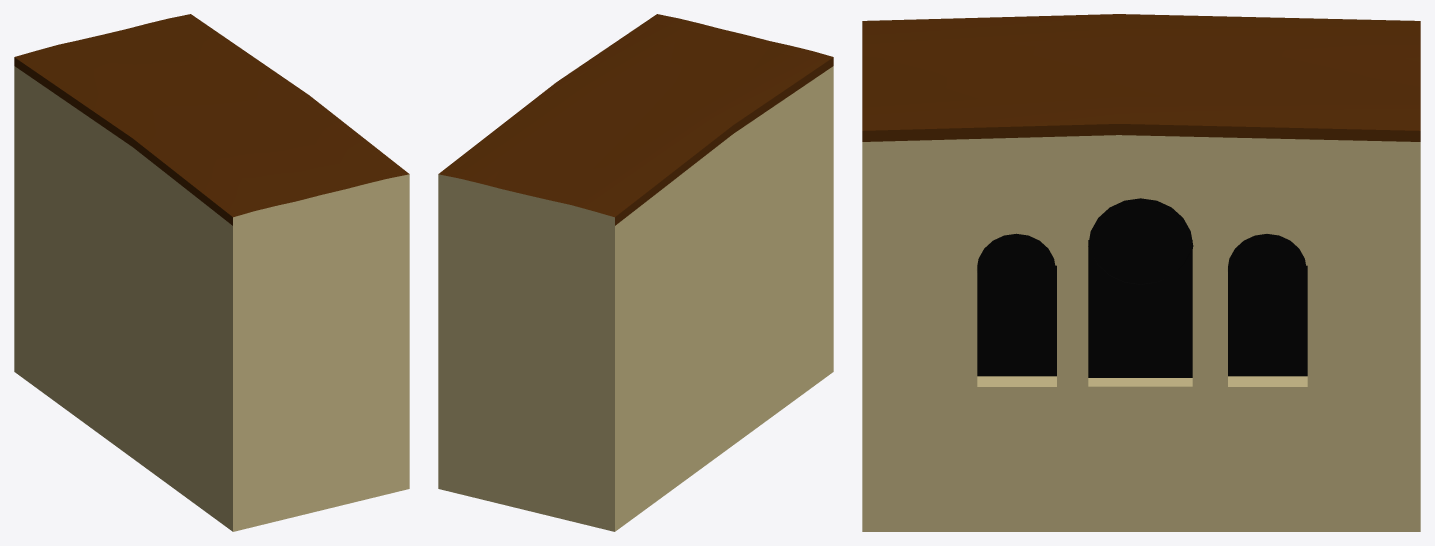
File: sagrera2.fbx
3 views of the same model, side by side, from view 1: azimuth 30°, elevation 25°; view 2: azimuth 150°, elevation 25°; view 3: azimuth 270°, elevation 25° (orthographic). The views are drawn at different scales.
Parts seen in each view (by area): view 1: polySurface22; view 2: polySurface22; view 3: polySurface22.
Part boxes in pixels (bbox=[...]): polySurface22: bbox=[14, 14, 409, 531]; polySurface22: bbox=[438, 14, 833, 531]; polySurface22: bbox=[862, 14, 1420, 531].
Bounding box in the file's own units: 19.77 × 34.34 × 42.44.
